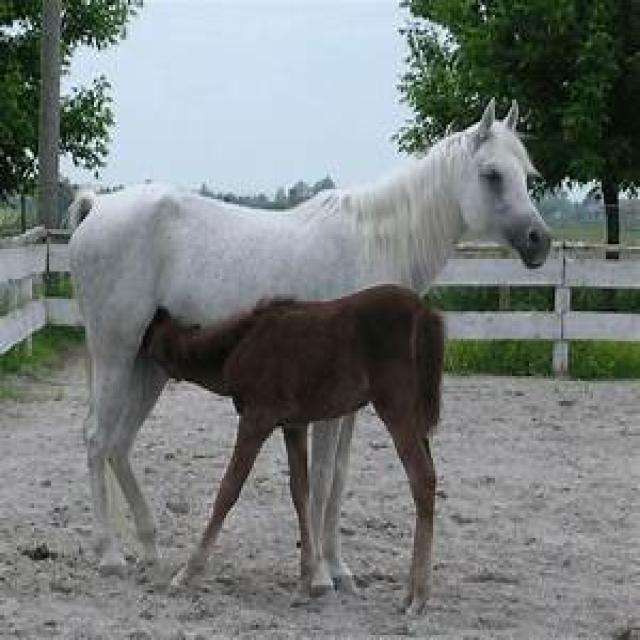horse: (68, 104, 550, 585), (151, 286, 444, 606)
